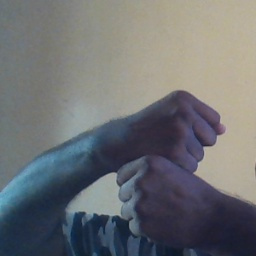G: (116, 83, 226, 242)
